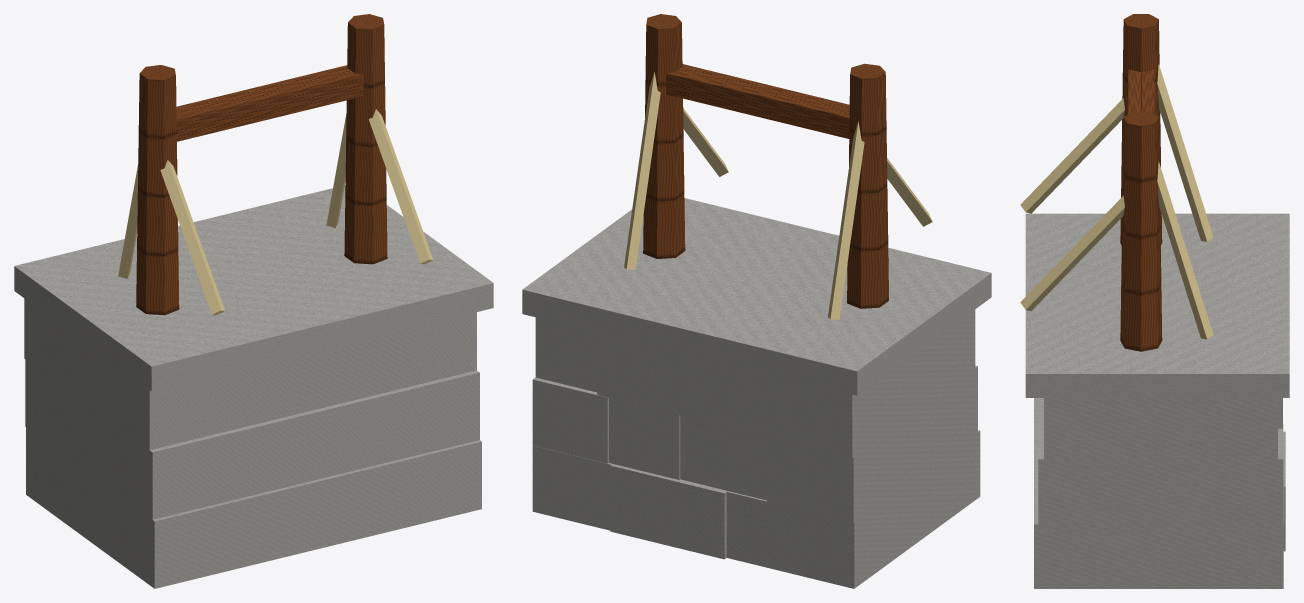
File: andean-terraces-and-stone-village-bridge-stone-anchor-14c62f39__38244.glb
3 renders of one model, left to right at view 1: azimuth 30°, elevation 25°; view 2: azimuth 150°, elevation 25°; view 3: azimuth 270°, elevation 25°, orthographic. The views are drawn at different scales.
Visible parts, largest first — view 1: bridge-stone-anchor-stone, bridge-stone-anchor-timber, bridge-stone-anchor-thatch; view 2: bridge-stone-anchor-stone, bridge-stone-anchor-timber, bridge-stone-anchor-thatch; view 3: bridge-stone-anchor-stone, bridge-stone-anchor-timber, bridge-stone-anchor-thatch.
Boxes of the visible parts, left/top/right/bottom form: bridge-stone-anchor-stone: left=14, top=185, right=493, bottom=588; bridge-stone-anchor-timber: left=136, top=14, right=387, bottom=315; bridge-stone-anchor-thatch: left=118, top=109, right=433, bottom=315; bridge-stone-anchor-stone: left=522, top=198, right=991, bottom=588; bridge-stone-anchor-timber: left=643, top=14, right=888, bottom=308; bridge-stone-anchor-thatch: left=624, top=72, right=932, bottom=319; bridge-stone-anchor-stone: left=1025, top=213, right=1289, bottom=588; bridge-stone-anchor-timber: left=1120, top=14, right=1162, bottom=351; bridge-stone-anchor-thatch: left=1020, top=64, right=1213, bottom=339.
Size of the model in its own units: 2.3 by 2.96 by 1.63.
3 materials, 2 textured.
